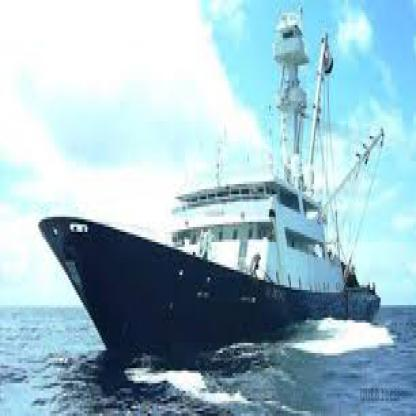Ship: (28, 4, 397, 382)
